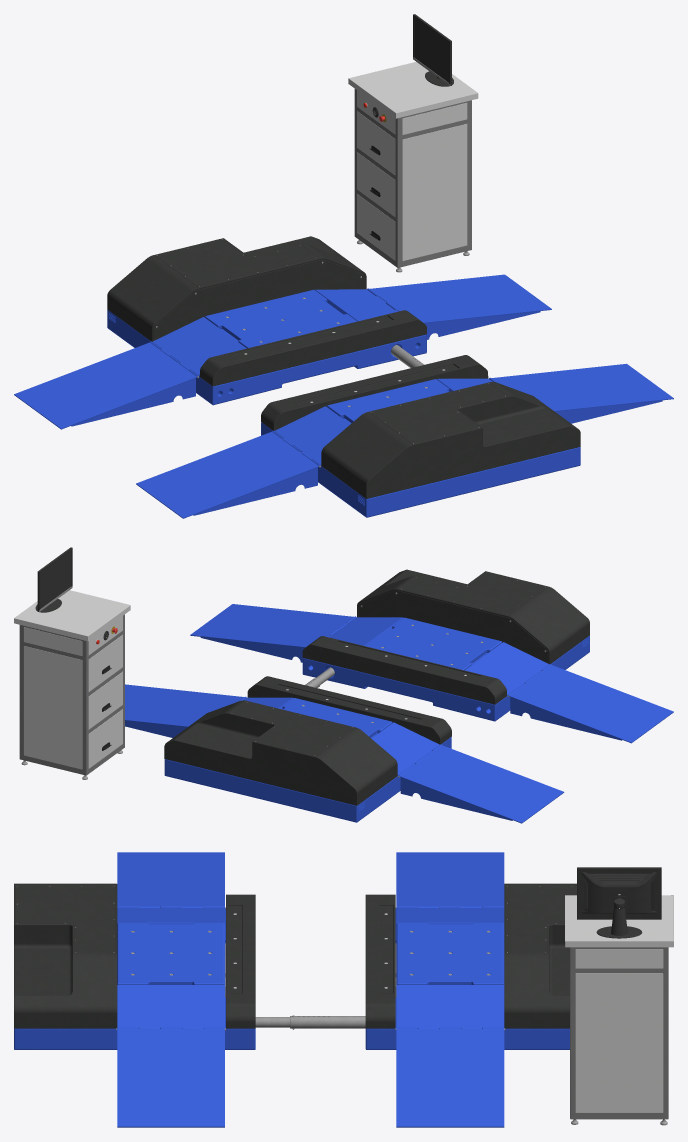
The model's file is testingTool_brake_testing_station_a01.glb.
3 views of the same model, one above another, from view 1: azimuth 30°, elevation 25°; view 2: azimuth 150°, elevation 25°; view 3: azimuth 270°, elevation 25° (orthographic). The views are drawn at different scales.
Parts seen in each view (by area): view 1: base_01_mesh_00, panelBase_01_mesh_00, ramp_01_mesh_00, ramp_04_mesh_00, ramp_02_mesh_00, ramp_03_mesh_00, lid_01_mesh_00, lid_02_mesh_00, drawer_03_mesh_00, drawer_02_mesh_00, drawer_01_mesh_00; view 2: base_01_mesh_00, panelBase_01_mesh_00, ramp_01_mesh_00, ramp_04_mesh_00, ramp_03_mesh_00, ramp_02_mesh_00, lid_02_mesh_00, lid_01_mesh_00, drawer_03_mesh_00, drawer_02_mesh_00, drawer_01_mesh_00; view 3: base_01_mesh_00, panelBase_01_mesh_00, ramp_02_mesh_00, ramp_03_mesh_00, lid_01_mesh_00, lid_02_mesh_00, ramp_01_mesh_00, ramp_04_mesh_00.
Boxes of the visible parts, x1,y1,x2,y2 form: base_01_mesh_00: [107, 236, 580, 517]; panelBase_01_mesh_00: [348, 14, 478, 272]; ramp_01_mesh_00: [14, 341, 198, 429]; ramp_04_mesh_00: [136, 430, 320, 518]; ramp_02_mesh_00: [367, 274, 551, 339]; ramp_03_mesh_00: [489, 363, 673, 423]; lid_01_mesh_00: [205, 289, 357, 348]; lid_02_mesh_00: [327, 379, 449, 423]; drawer_03_mesh_00: [357, 194, 395, 260]; drawer_02_mesh_00: [357, 152, 395, 216]; drawer_01_mesh_00: [357, 111, 395, 174]; base_01_mesh_00: [164, 569, 589, 822]; panelBase_01_mesh_00: [14, 547, 130, 779]; ramp_01_mesh_00: [398, 744, 564, 823]; ramp_04_mesh_00: [508, 664, 673, 743]; ramp_03_mesh_00: [190, 604, 356, 662]; ramp_02_mesh_00: [125, 684, 246, 737]; lid_02_mesh_00: [365, 617, 501, 670]; lid_01_mesh_00: [282, 698, 392, 737]; drawer_03_mesh_00: [88, 709, 122, 768]; drawer_02_mesh_00: [88, 671, 122, 729]; drawer_01_mesh_00: [88, 634, 122, 691]; base_01_mesh_00: [14, 883, 576, 1049]; panelBase_01_mesh_00: [565, 867, 673, 1125]; ramp_02_mesh_00: [396, 1027, 504, 1127]; ramp_03_mesh_00: [117, 1027, 224, 1127]; lid_01_mesh_00: [396, 922, 503, 984]; lid_02_mesh_00: [117, 922, 224, 984]; ramp_01_mesh_00: [396, 852, 504, 907]; ramp_04_mesh_00: [117, 852, 224, 907].
Bounding box in the file's own units: 3.5 × 1.47 × 3.56.
Materials: 15 (8 with a texture image).
